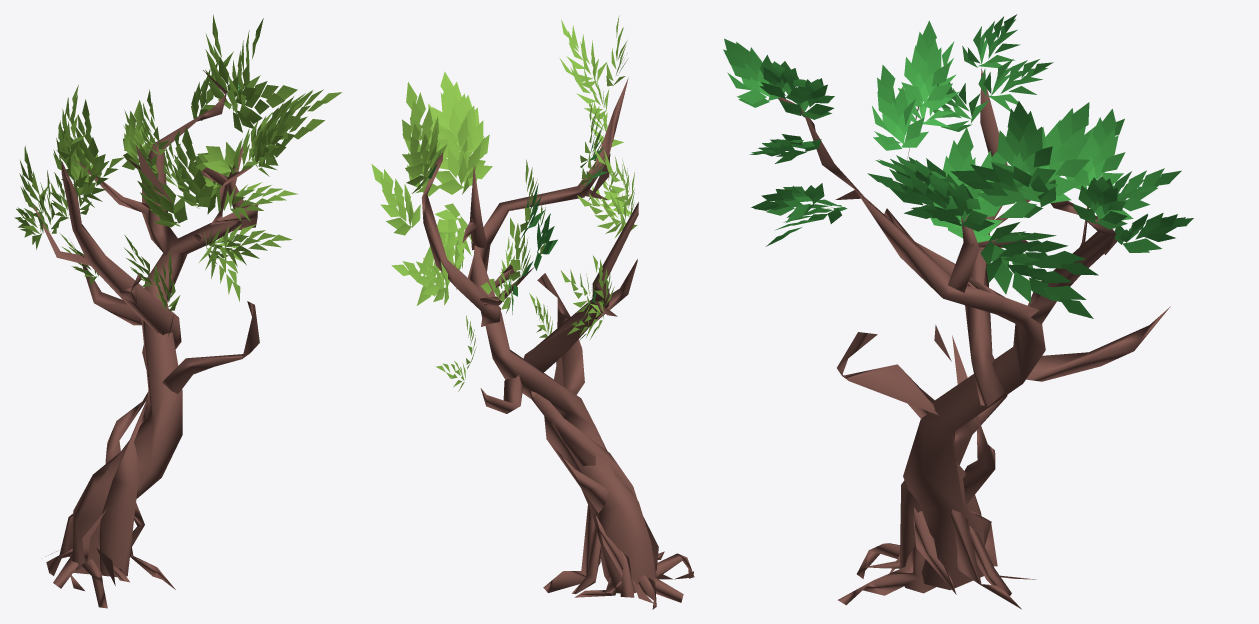
Rendered from big-tree.glb.
The picture shows the model from 3 angles, left to right: view 1: azimuth 30°, elevation 25°; view 2: azimuth 150°, elevation 25°; view 3: azimuth 270°, elevation 25°; orthographic projection. The views are drawn at different scales.
Parts seen in each view (by area): view 1: group1406566609; view 2: group1406566609; view 3: group1406566609.
Boxes of the visible parts, x1,y1,x2,y2 form: group1406566609: [14, 14, 342, 608]; group1406566609: [371, 15, 694, 609]; group1406566609: [723, 14, 1193, 609].
Size of the model in its own units: 1.33 by 2.38 by 1.82.
1 material, 1 textured.
